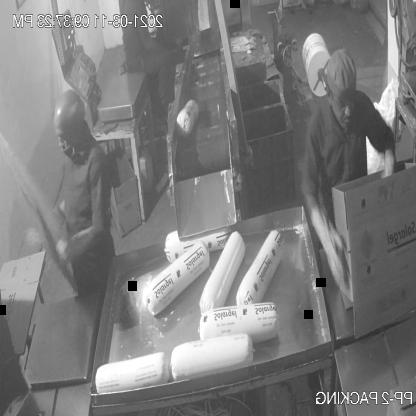glove: (307, 198, 349, 292), (56, 214, 96, 276)
